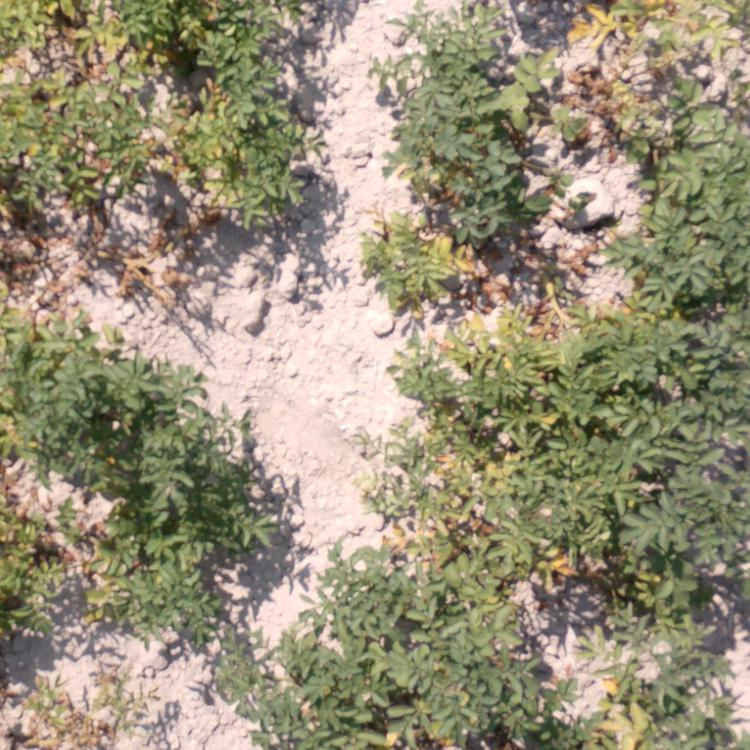healthy: (60, 327, 230, 488), (96, 495, 279, 641), (390, 11, 520, 204), (638, 337, 744, 535), (656, 140, 750, 319), (233, 646, 358, 750), (316, 550, 404, 636), (369, 642, 505, 687)
stressed: (403, 297, 635, 460), (172, 1, 312, 223), (7, 1, 164, 197), (397, 474, 576, 635), (532, 1, 739, 122), (524, 658, 746, 747), (1, 282, 54, 481), (364, 214, 495, 292), (1, 513, 91, 625), (595, 539, 726, 614), (15, 677, 126, 749), (58, 224, 180, 279), (502, 215, 577, 286)
